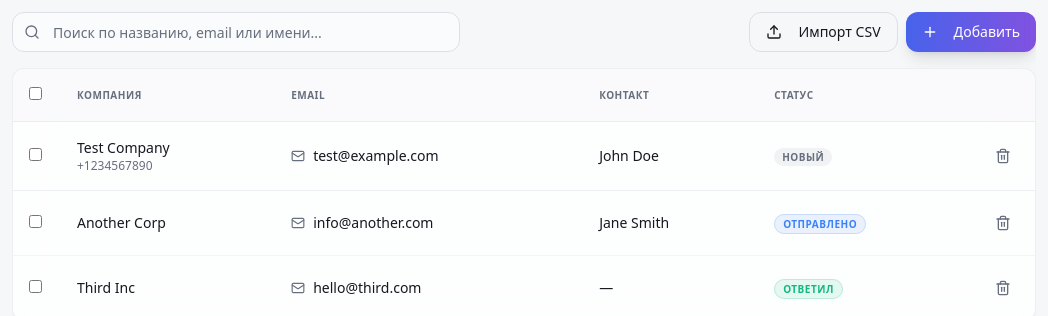
Test: ContactsList › search functionality › should filter contacts by contact person
Type "John" into the field with placeholder "Поиск по названию, email или имени..." at (236, 32), box x1=12 y1=12 x2=460 y2=52
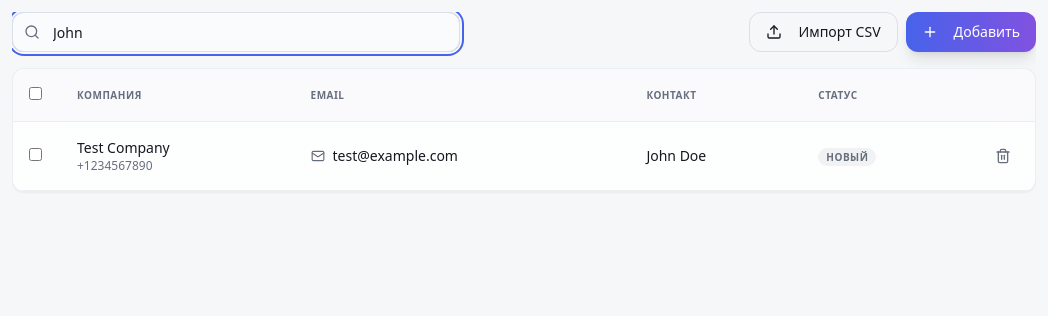
Expected: the text "Test Company" is shown, x1=77 y1=138 x2=170 y2=157
Result: the text "Another Corp" is gone
